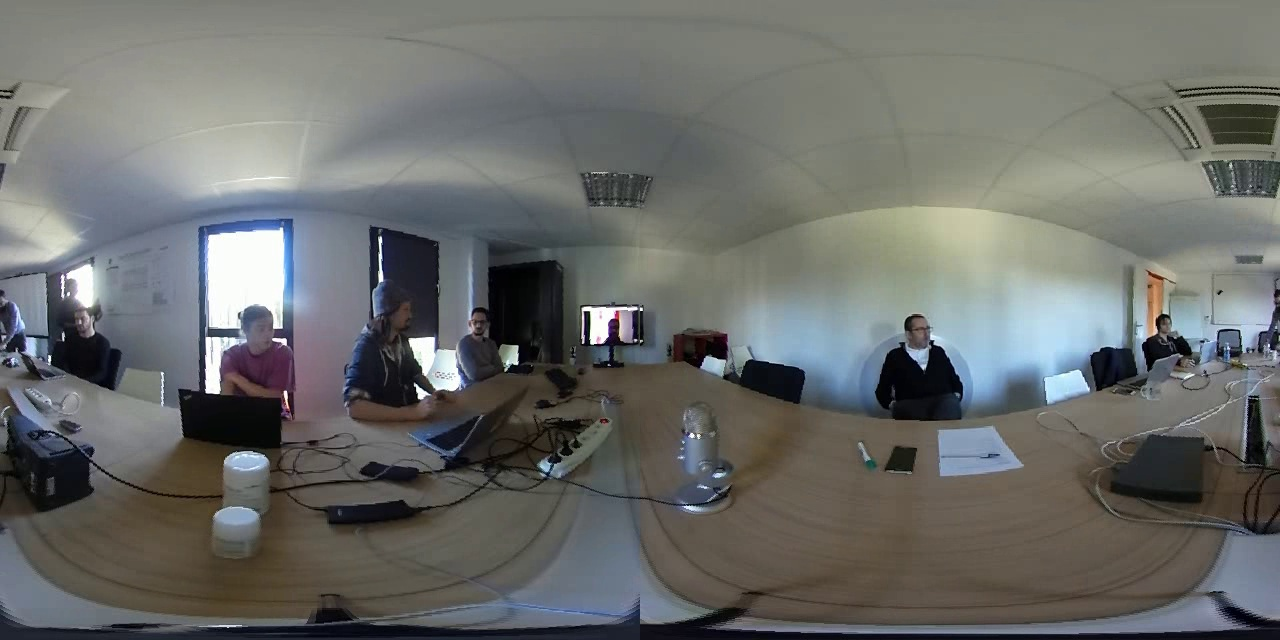person: (331, 269, 434, 424), (876, 307, 976, 427), (216, 298, 299, 406), (449, 294, 511, 388), (55, 306, 113, 383), (1141, 309, 1199, 363), (582, 306, 637, 345), (2, 292, 31, 351), (58, 268, 88, 300)
